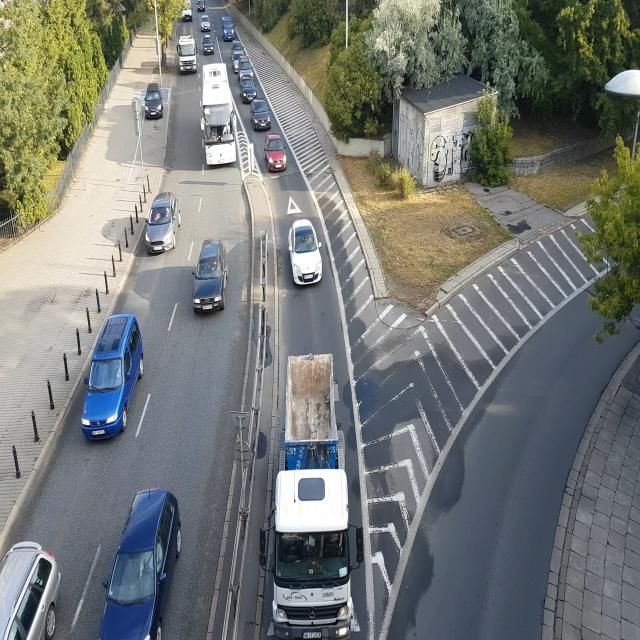bus: (202, 61, 236, 166)
car: (103, 488, 186, 640), (78, 311, 144, 440), (0, 545, 63, 640), (190, 242, 232, 313), (288, 216, 324, 288), (142, 193, 181, 253), (264, 134, 286, 173), (144, 89, 166, 118), (250, 101, 272, 130), (239, 78, 258, 102), (222, 14, 236, 40), (238, 58, 254, 78), (200, 36, 216, 55), (182, 0, 192, 21), (233, 53, 243, 72), (199, 16, 212, 30), (232, 40, 245, 54), (197, 0, 206, 11)
truck: (267, 352, 365, 640), (178, 31, 198, 74)
